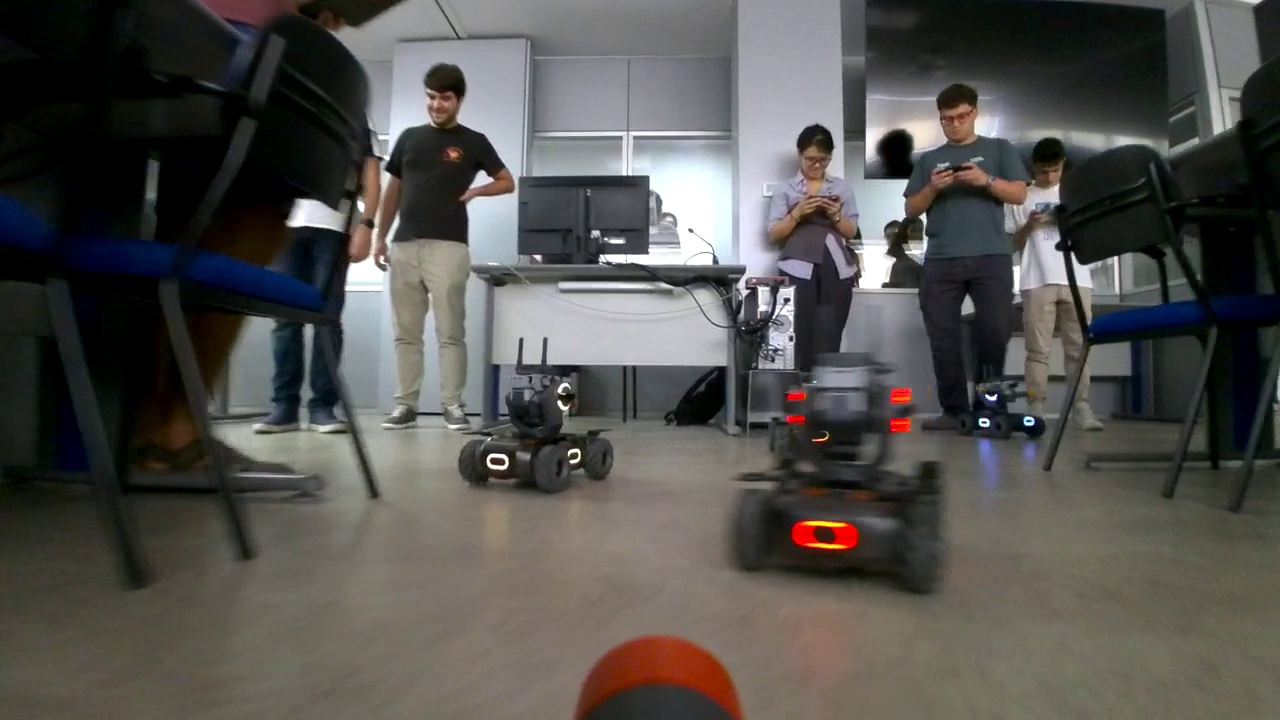robot: (733, 310, 955, 575), (460, 338, 613, 492), (956, 364, 1044, 439)
